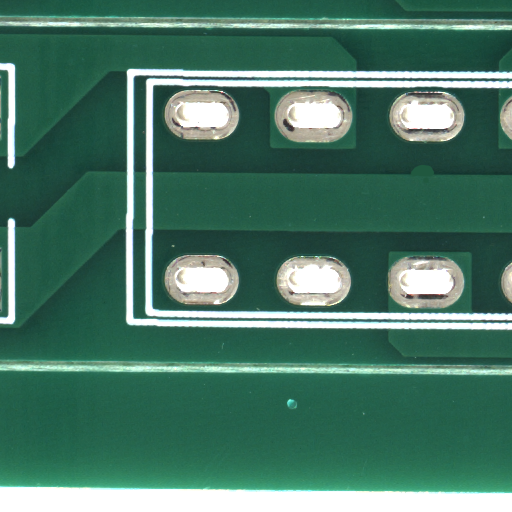Spur: (421, 170, 445, 182)
